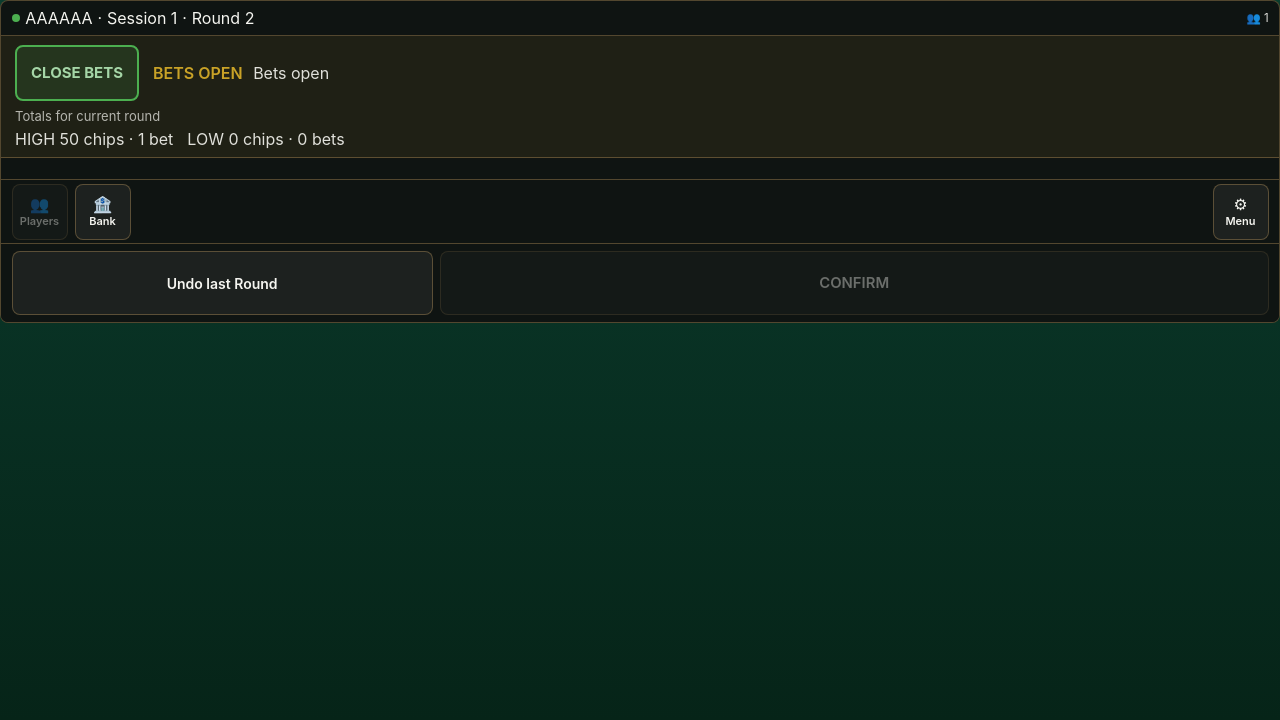
Test: DealerShell undo blocking › shows explanation when undo blocked by next-round bets
The width and height of the screenshot is (1280, 720).
Click the button with test id "undo-btn".
click(222, 283)  # box [12, 251, 433, 315]
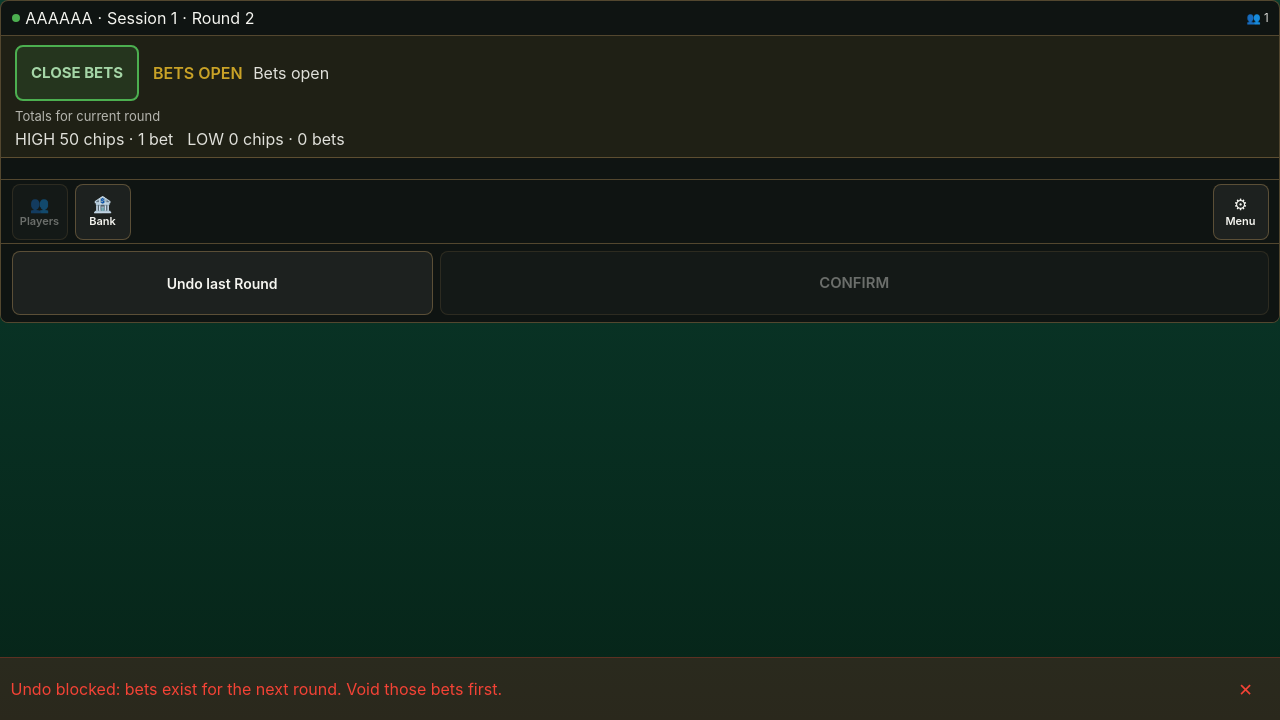
Expected: the message with test id "dealer-toast" shows "next round", [10, 679, 502, 699]
